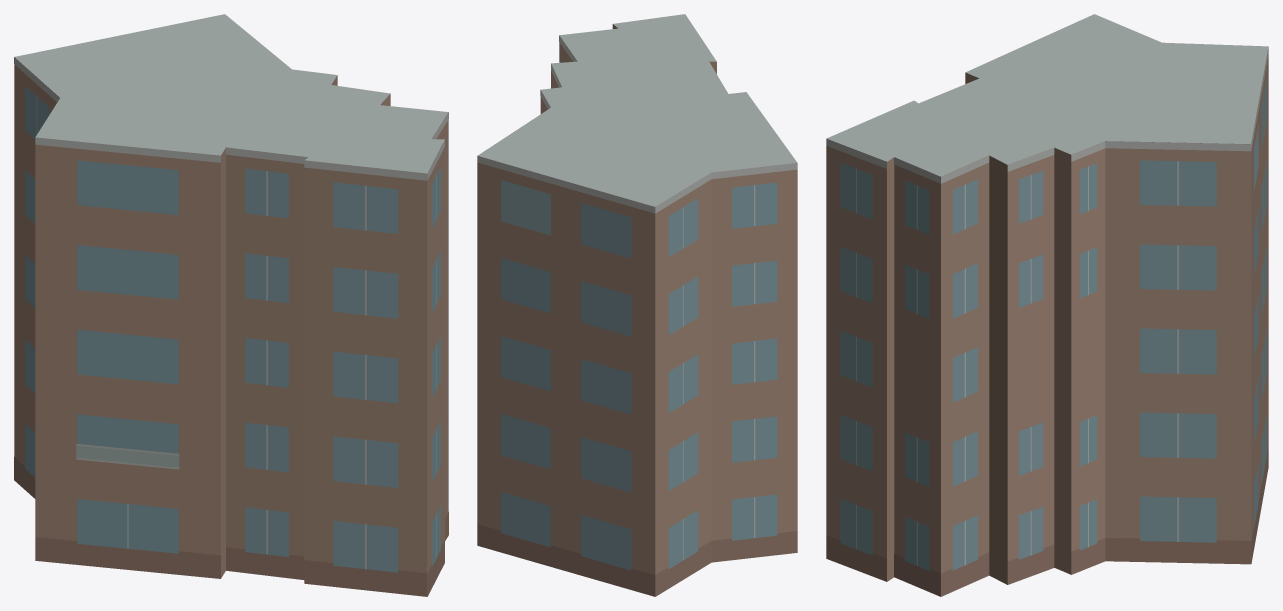
File: survey-upis-32944064.glb
3 renders of one model, left to right at view 1: azimuth 30°, elevation 25°; view 2: azimuth 150°, elevation 25°; view 3: azimuth 270°, elevation 25°, orthographic. The views are drawn at different scales.
Parts seen in each view (by area): view 1: survey-upis-32944064.tmp; view 2: survey-upis-32944064.tmp; view 3: survey-upis-32944064.tmp.
Part boxes in pixels (x1,y1,x2,y2): survey-upis-32944064.tmp: [14, 14, 448, 596]; survey-upis-32944064.tmp: [477, 14, 797, 596]; survey-upis-32944064.tmp: [826, 14, 1268, 596].
Bounding box in the file's own units: 11.89 × 14.3 × 13.65.
